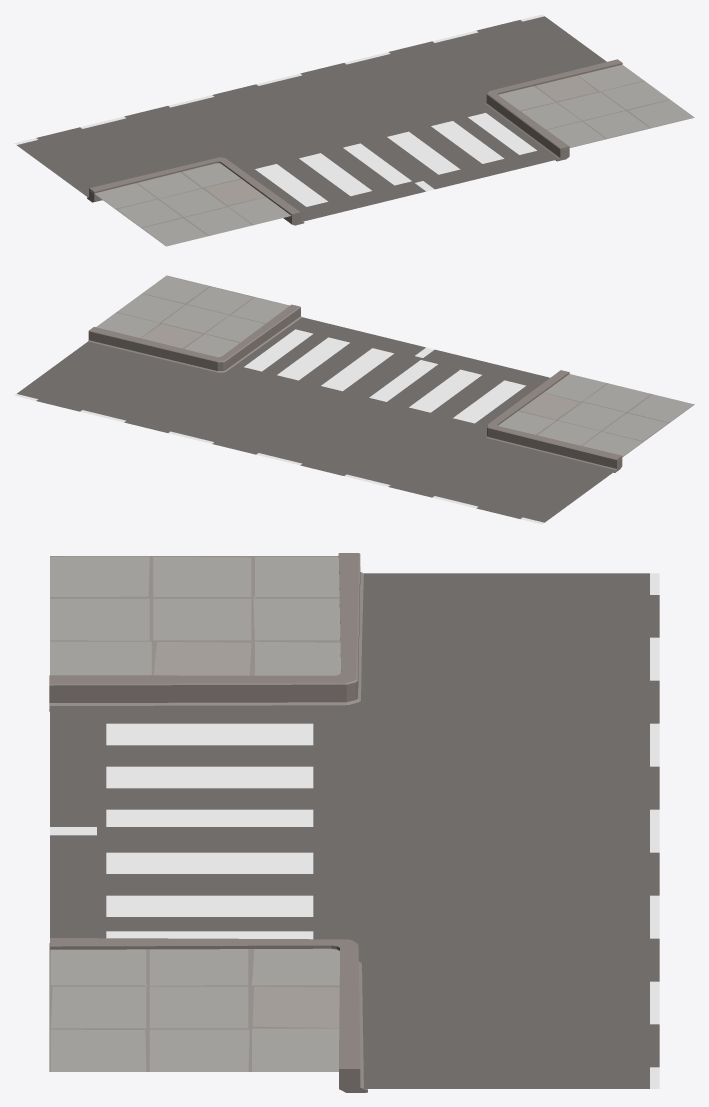
Rendered from Road_09.fbx.
3 views of the same model, one above another, from view 1: azimuth 30°, elevation 25°; view 2: azimuth 150°, elevation 25°; view 3: azimuth 270°, elevation 25° (orthographic). The views are drawn at different scales.
Parts seen in each view (by area): view 1: Road_09; view 2: Road_09; view 3: Road_09.
Boxes of the visible parts, x1=… form: Road_09: x1=14, y1=14, x2=694, y2=246; Road_09: x1=14, y1=275, x2=694, y2=524; Road_09: x1=49, y1=553, x2=659, y2=1092.
Size of the model in its own units: 24.02 by 0.5208 by 12.01.
